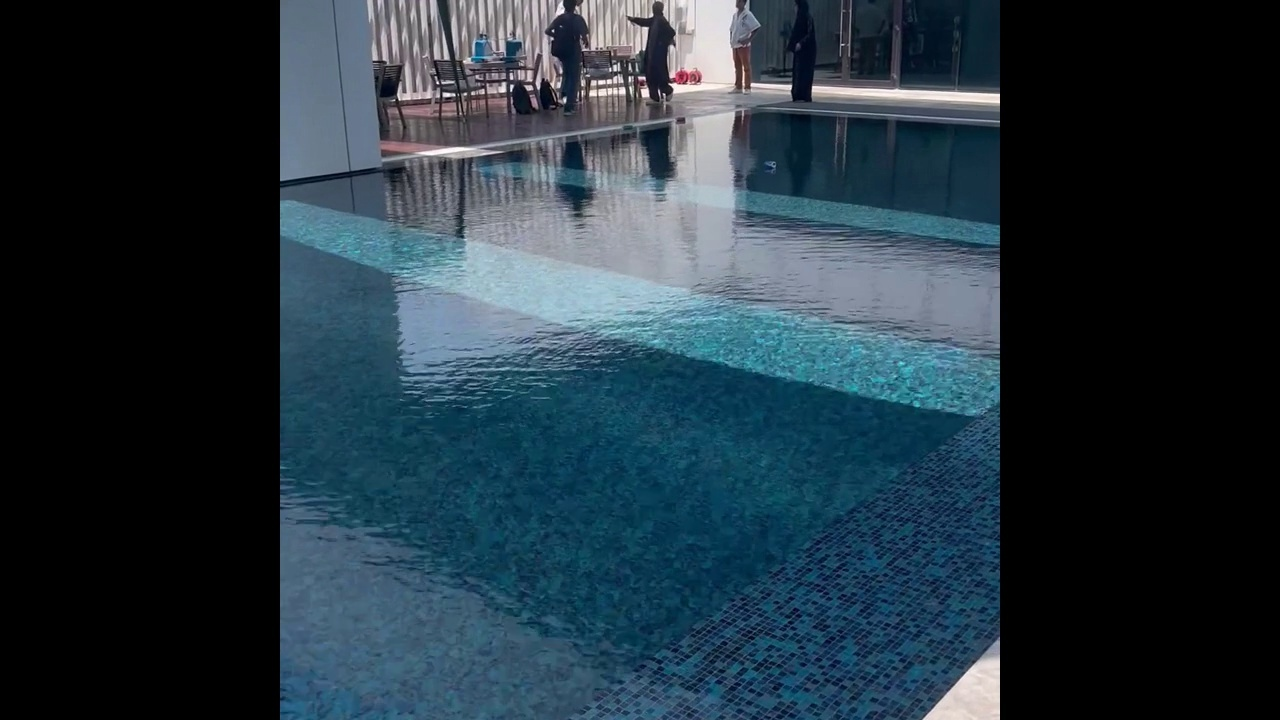debris: (759, 156, 778, 173), (618, 119, 638, 135), (672, 114, 690, 127)
